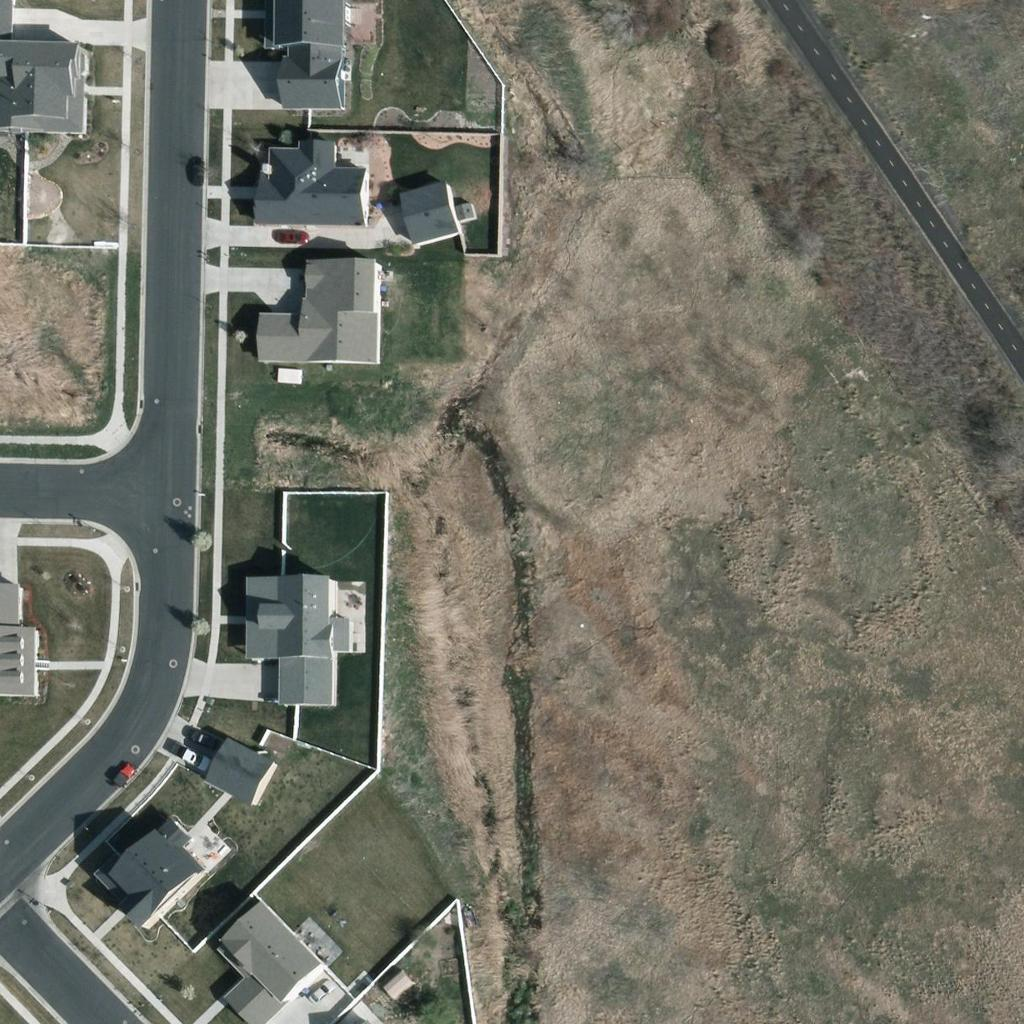car: (180, 153, 214, 187), (273, 218, 307, 252), (187, 720, 221, 754), (176, 739, 210, 773), (104, 758, 138, 792), (302, 974, 336, 1008)
